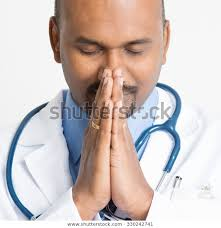Indian_Male: (48, 1, 173, 115)
